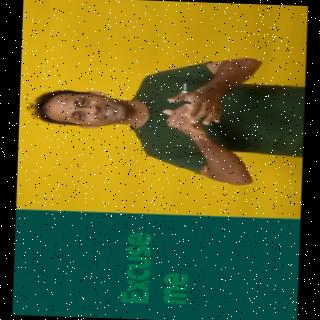ExcuseMe: (28, 49, 298, 186)
